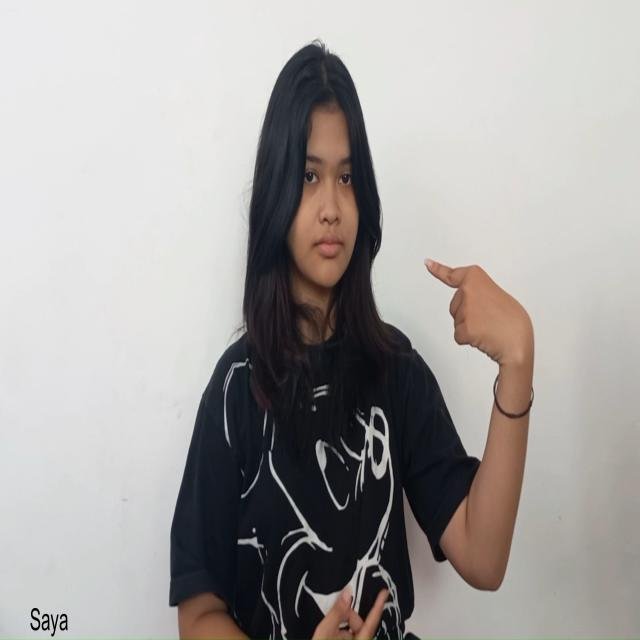Saya -BISINDO-: (422, 252, 538, 418)
